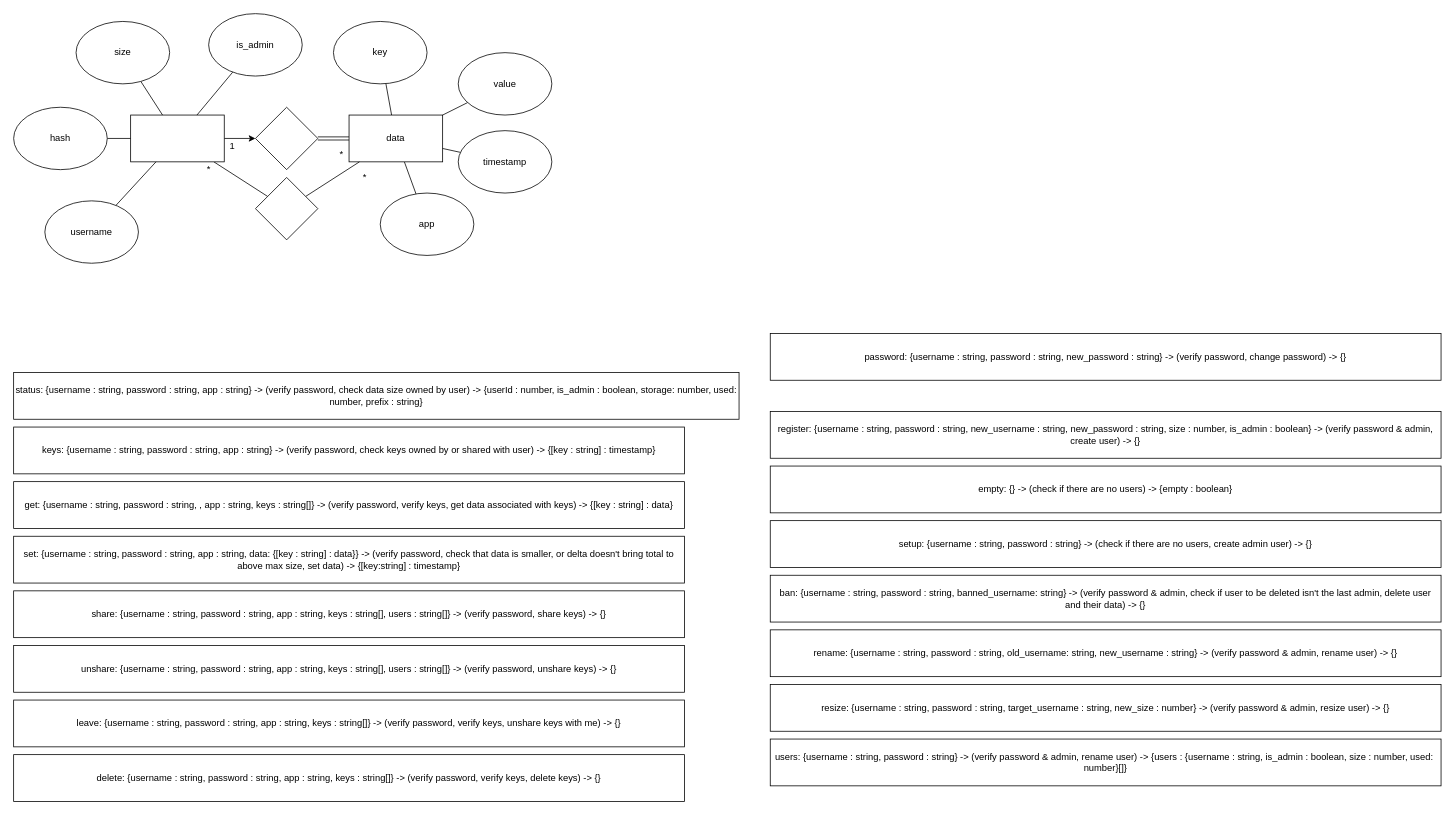
This 1455x815 diagram has some shape labels left out. Here are the shapes that lost their labels. From the top down, the centre of each, then its label:
At (177,138): "user".
At (286,138): "owns".
At (286,208): "shared with".
